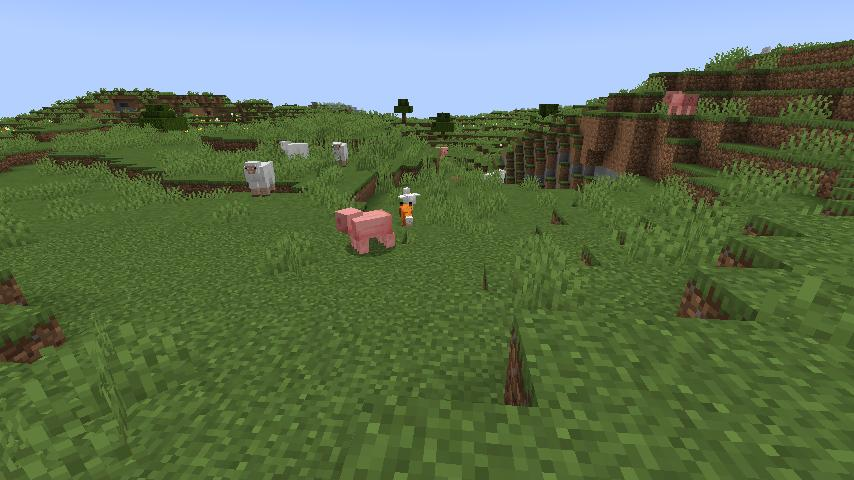chicken: (396, 186, 421, 208)
fox: (395, 200, 417, 229)
pig: (334, 206, 398, 257), (662, 89, 701, 118), (436, 145, 450, 159)
sheep: (240, 157, 282, 199), (277, 137, 312, 165), (329, 138, 354, 169), (482, 168, 509, 185)
